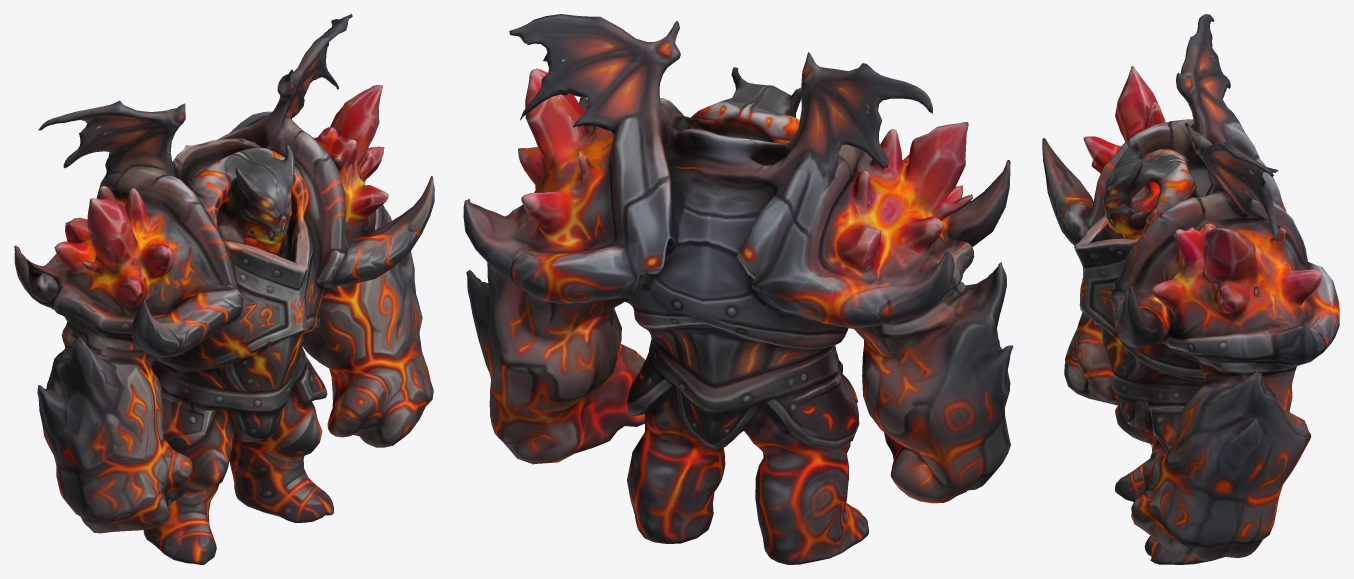
The model's file is T_Pose.fbx.
3 views of the same model, side by side, from view 1: azimuth 30°, elevation 25°; view 2: azimuth 150°, elevation 25°; view 3: azimuth 270°, elevation 25° (orthographic). The views are drawn at different scales.
Visible parts, largest first — view 1: Mesh_0; view 2: Mesh_0; view 3: Mesh_0.
Part boxes in pixels (x1,y1,x2,y2): Mesh_0: (14,14,434,564); Mesh_0: (463,14,1013,564); Mesh_0: (1042,14,1339,564).
Bounding box in the file's own units: 199 × 200 × 123.
1 material, 1 textured.
